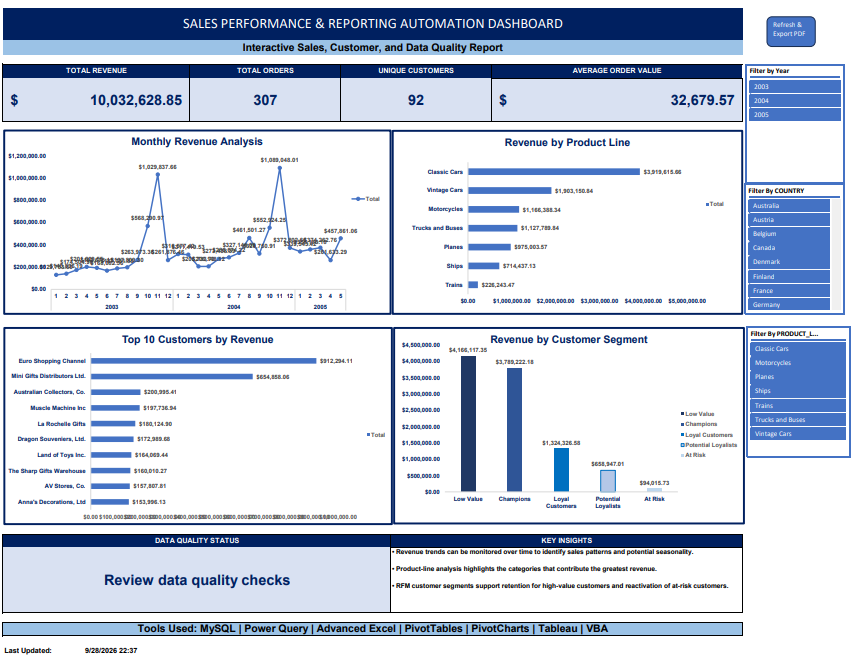

The dashboard page shown, as its layout file describes it:
{"tool":"tableau","page":{"name":"Global Sales Performance & Customer Insights","canvas":[1000,800],"ordinal":0},"visuals":[{"type":"title","box":[9,9,982,44]},{"type":"text","box":[9,53,982,32]},{"type":"legend","title":"Revenue by Customer Segment","param":"[federated.0jmew071ld52l11bd3la816gf9jw].[sum:TOTAL_REVENUE:qk]","box":[9,85,982,22]},{"type":"worksheet","title":"KPI – Total Revenue","mark":"Text","box":[12,87,245,79]},{"type":"worksheet","title":"KPI – Total Orders","mark":"Text","box":[792,88,192,77]},{"type":"worksheet","title":"KPI – Unique Customers","mark":"Text","box":[256,89,271,81]},{"type":"worksheet","title":"KPI – Avg Order Value","mark":"Text","box":[519,90,270,79]},{"type":"filter","title":"KPI – Avg Order Value","param":"[federated.10hvzjs0ferwjy12rjnsm1cxu5uh].[none:YEAR_ID:ok]","box":[14,173,126,126]},{"type":"worksheet","title":"Revenue by Product Line","mark":"Bar","rows":["PRODUCT_LINE"],"cols":["SALES"],"box":[567,175,418,284]},{"type":"worksheet","title":"Monthly Revenue Trend","mark":"Line","rows":["SALES"],"cols":["YEAR_ID","MONTH_ID"],"box":[145,176,414,281]},{"type":"filter","title":"KPI – Avg Order Value","param":"[federated.10hvzjs0ferwjy12rjnsm1cxu5uh].[none:PRODUCT_LINE:nk]","box":[13,309,124,193]},{"type":"worksheet","title":"Top 10 Customers by Revenue","mark":"Bar","rows":["CUSTOMER_NAME"],"cols":["SALES"],"box":[142,466,419,321]},{"type":"worksheet","title":"Revenue by Customer Segment","mark":"Automatic","box":[568,467,417,319]},{"type":"filter","title":"KPI – Avg Order Value","param":"[federated.10hvzjs0ferwjy12rjnsm1cxu5uh].[none:COUNTRY:nk]","box":[14,512,122,271]}]}

Visuals, with their boxes on the page's 1000x800 design canvas (x1, y1, x2, y2). These are canvas units, not pixel positions in the 852x660 screenshot, which may show the page scaled, cropped or inside an application window:
title: 9:9:991:53
text: 9:53:991:85
"Revenue by Customer Segment" legend: 9:85:991:107
"KPI – Total Revenue" worksheet (Text marks): 12:87:257:166
"KPI – Total Orders" worksheet (Text marks): 792:88:984:165
"KPI – Unique Customers" worksheet (Text marks): 256:89:527:170
"KPI – Avg Order Value" worksheet (Text marks): 519:90:789:169
"KPI – Avg Order Value" filter: 14:173:140:299
"Revenue by Product Line" worksheet (Bar marks): 567:175:985:459
"Monthly Revenue Trend" worksheet (Line marks): 145:176:559:457
"KPI – Avg Order Value" filter: 13:309:137:502
"Top 10 Customers by Revenue" worksheet (Bar marks): 142:466:561:787
"Revenue by Customer Segment" worksheet: 568:467:985:786
"KPI – Avg Order Value" filter: 14:512:136:783
